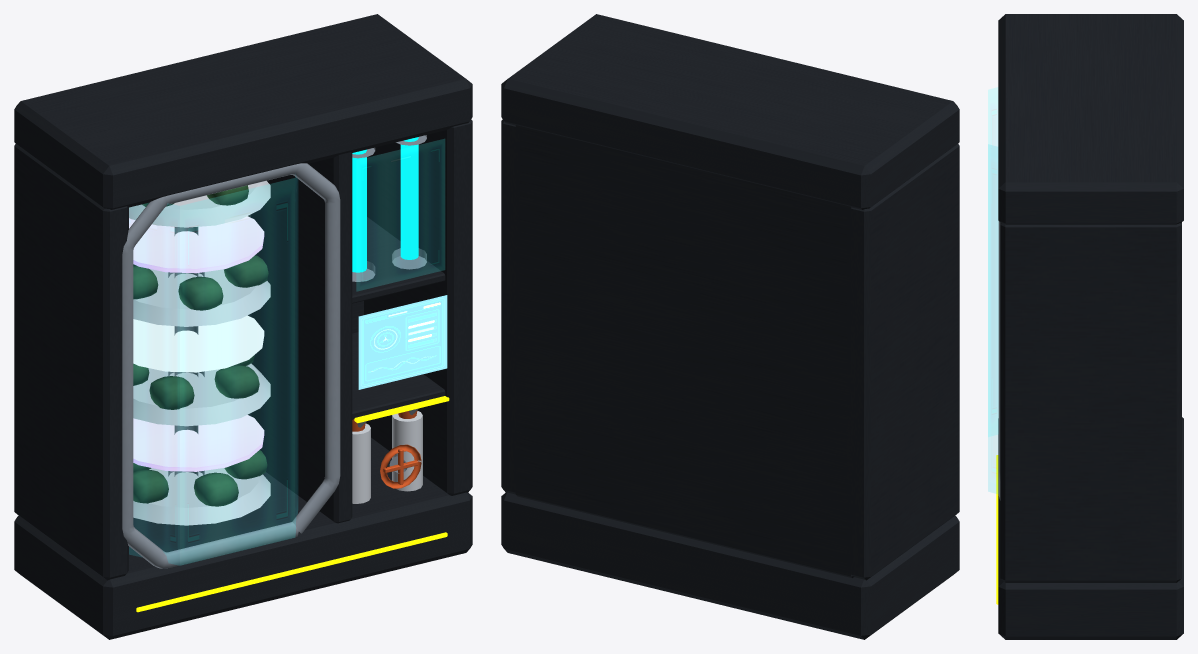
Rendered from hydro_column_r1_02.glb.
The picture shows the model from 3 angles, left to right: view 1: azimuth 30°, elevation 25°; view 2: azimuth 150°, elevation 25°; view 3: azimuth 270°, elevation 25°; orthographic projection. The views are drawn at different scales.
Parts seen in each view (by area): view 1: Hydro02_SplitBayGunmetalHull, Hydro02_TranslucentBorosilicateEnclosures, Hydro02_WhitePlanterRingsAndReservoirs, Hydro02_MachinedSpindleBezelAndManifold, Hydro02_UVVioletGrowHalos, Hydro02_SculptedEmeraldFoliageClusters, Hydro02_RightBayOLEDTelemetry, Hydro02_DaylightIceGrowHalos, Hydro02_CyanAlgaeBioreactorCores, Hydro02_AmberSumpAndShelfLED, Hydro02_SignalOrangePurgeHandwheelAndValves; view 2: Hydro02_SplitBayGunmetalHull; view 3: Hydro02_SplitBayGunmetalHull, Hydro02_TranslucentBorosilicateEnclosures, Hydro02_MachinedSpindleBezelAndManifold, Hydro02_AmberSumpAndShelfLED.
Boxes of the visible parts, x1,y1,x2,y2 form: Hydro02_SplitBayGunmetalHull: (14,14,472,639); Hydro02_TranslucentBorosilicateEnclosures: (129,139,444,564); Hydro02_WhitePlanterRingsAndReservoirs: (129,180,422,525); Hydro02_MachinedSpindleBezelAndManifold: (122,135,426,568); Hydro02_UVVioletGrowHalos: (129,216,264,471); Hydro02_SculptedEmeraldFoliageClusters: (133,185,268,506); Hydro02_RightBayOLEDTelemetry: (358,295,447,389); Hydro02_DaylightIceGrowHalos: (133,315,264,372); Hydro02_CyanAlgaeBioreactorCores: (352,137,418,272); Hydro02_AmberSumpAndShelfLED: (136,396,449,612); Hydro02_SignalOrangePurgeHandwheelAndValves: (352,410,421,488); Hydro02_SplitBayGunmetalHull: (501,14,959,639); Hydro02_SplitBayGunmetalHull: (998,14,1183,639); Hydro02_TranslucentBorosilicateEnclosures: (988,88,998,493); Hydro02_MachinedSpindleBezelAndManifold: (998,221,1000,500); Hydro02_AmberSumpAndShelfLED: (996,455,998,604).
Bounding box in the file's own units: 2 × 2.45 × 0.95.
Materials: 12 (12 with a texture image).
